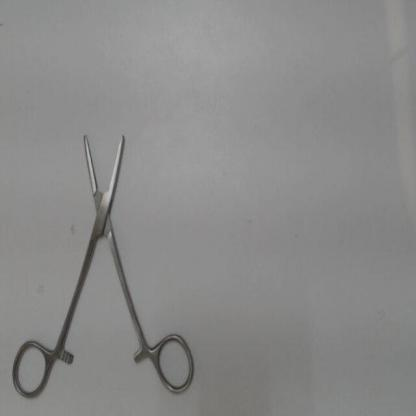Mayo Needle Holder: (9, 119, 200, 404)
